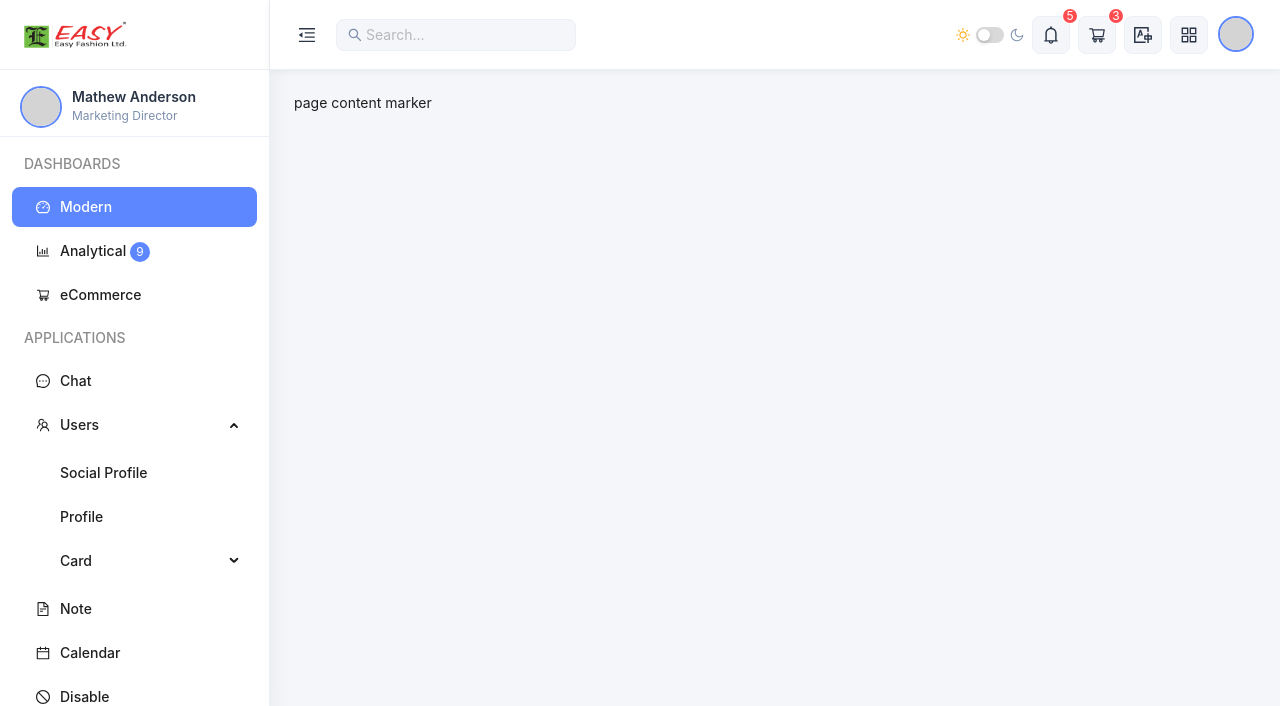
DashboardLayout › collapses the sidebar when the header toggle is clicked
Expected: the text "Mathew Anderson" is shown, [72,88,196,105]
Click the button named "Toggle sidebar". click: coordinates (307, 34)
box: [294,22,320,48]
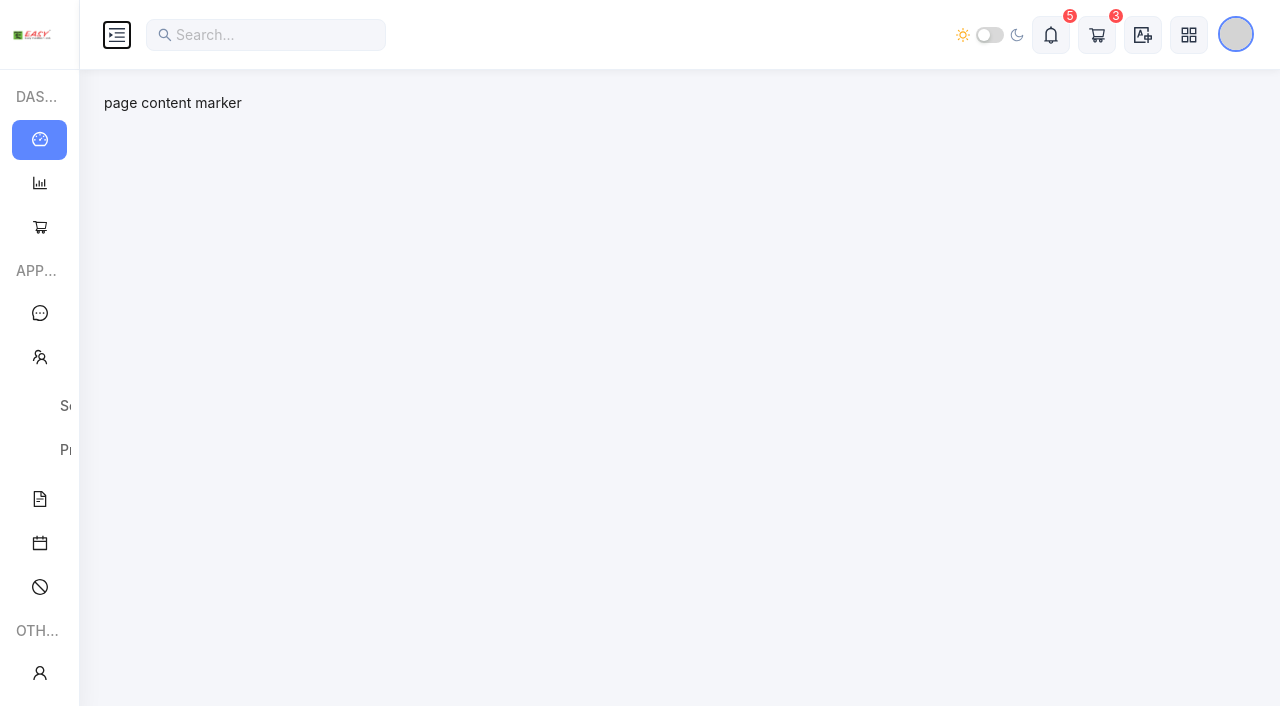
Result: the text "Mathew Anderson" is gone
Note: Toggling again expands it back
Click the button named "Toggle sidebar". click: coordinates (117, 34)
box: [104,22,130,48]
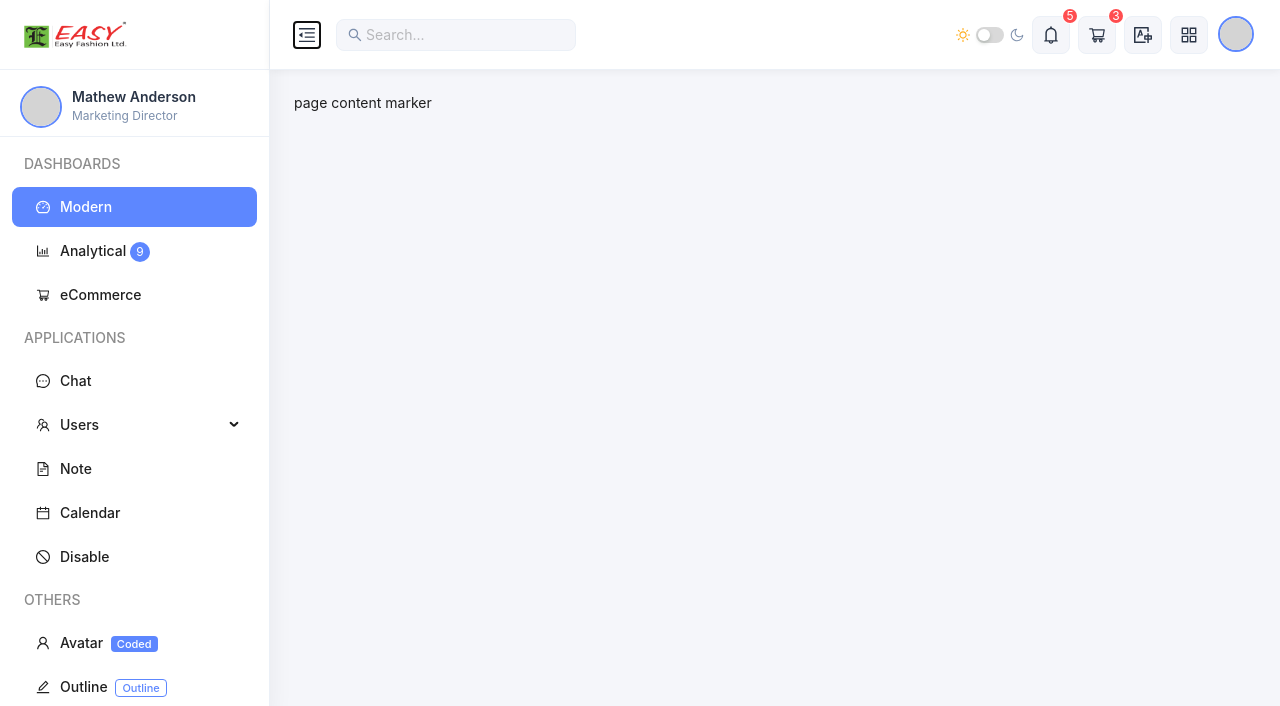
Result: the text "Mathew Anderson" is shown at [72,88,196,105]
